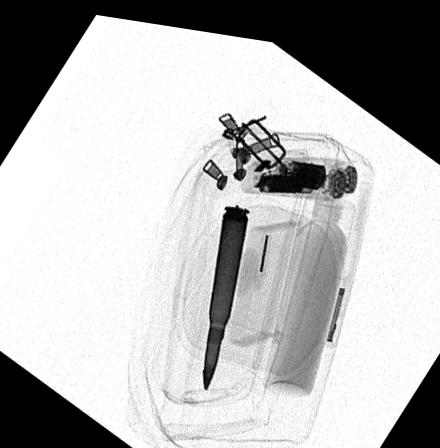Bullet: (201, 197, 249, 383)
